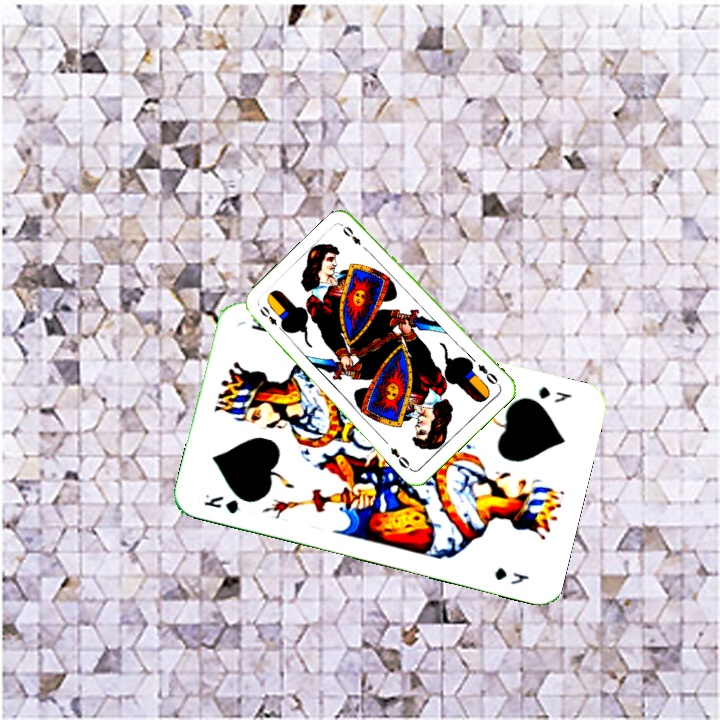EO: (255, 302, 287, 335), (473, 360, 502, 389)
GK: (199, 490, 244, 516), (534, 382, 575, 405)
